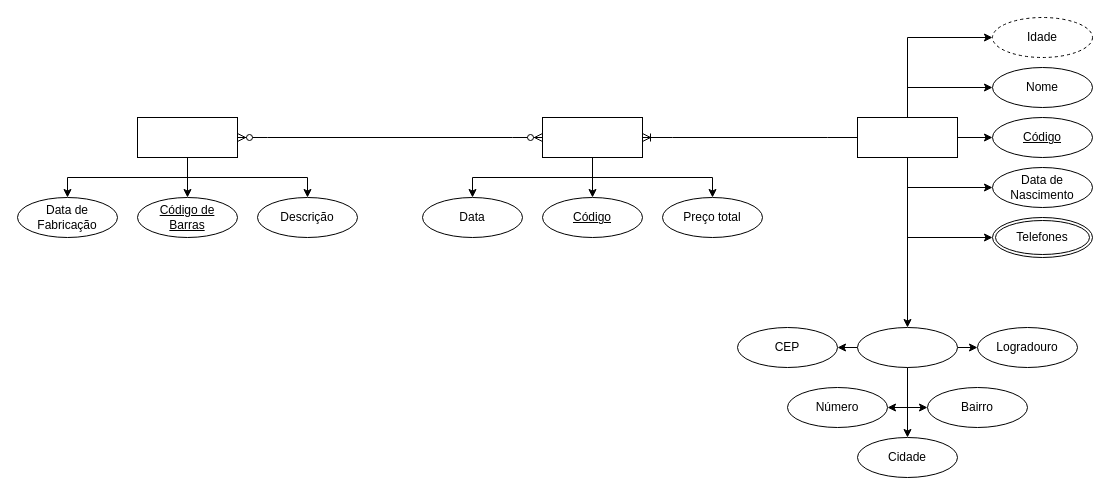
Some shapes in this 1110 by 495 pixel diagram are drawn without their labels. Each missing label, with the box of its shape:
Cliente: (856, 116, 958, 158)
Endereço: (856, 326, 958, 368)
Produto: (136, 116, 238, 158)
Venda: (542, 116, 642, 158)
